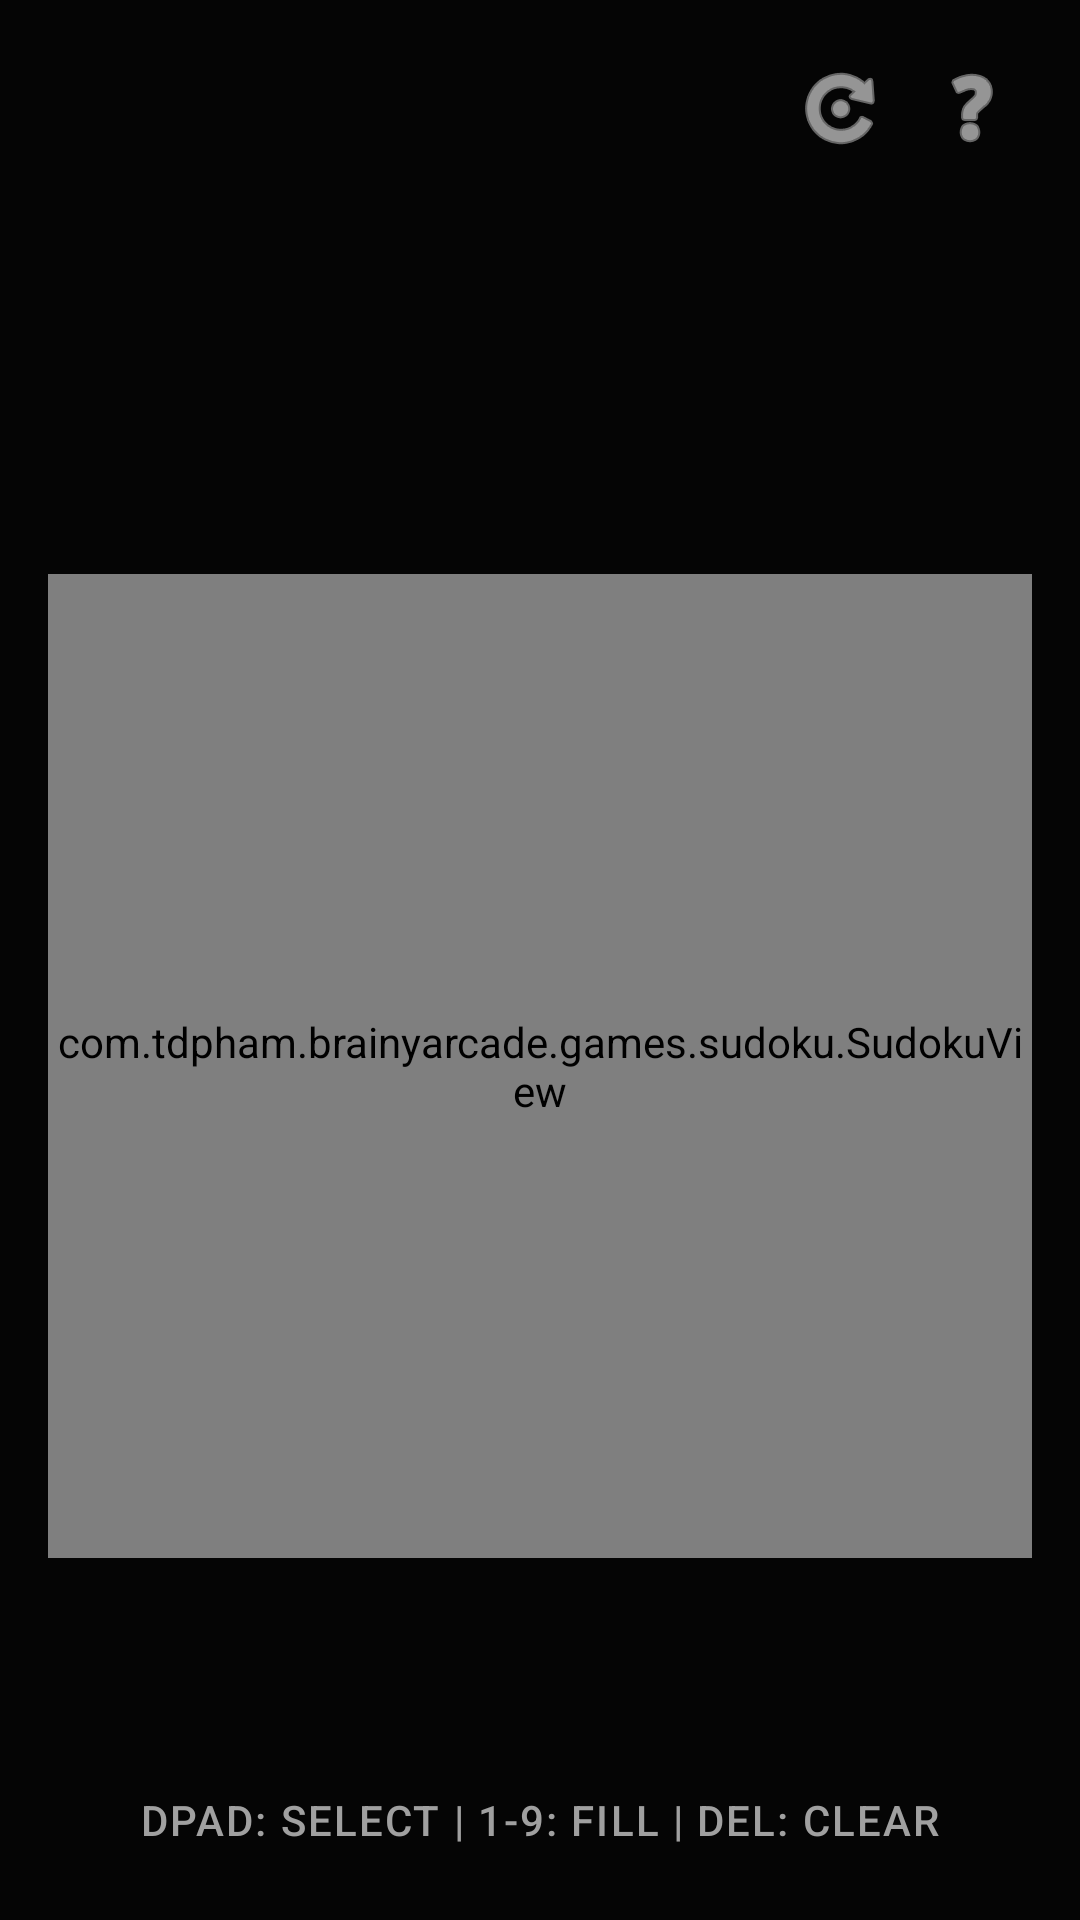

Where to tap for icons on this 1080x1920 app screen, as [x,y]:
How to Play: [972,108]
New Game: [840,108]
